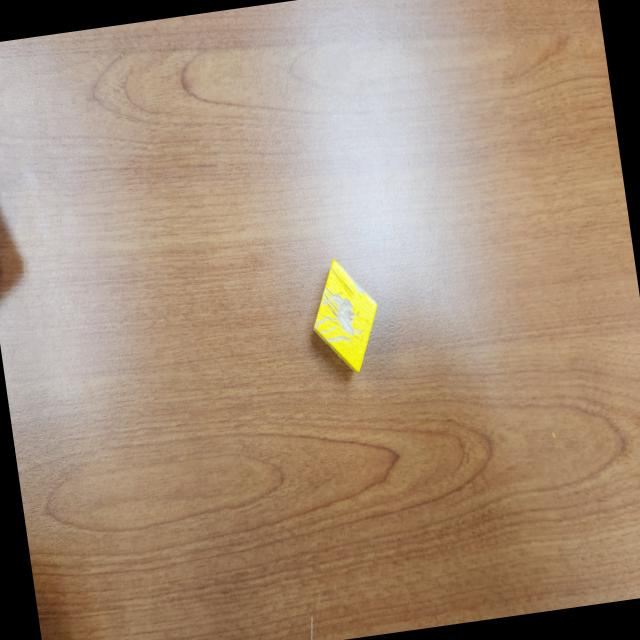broken: (304, 254, 386, 378)
